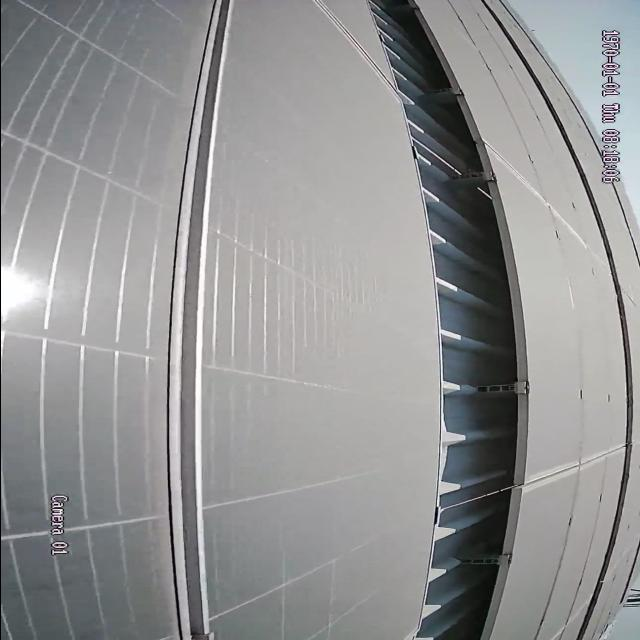interior panel: (165, 0, 235, 638), (485, 144, 588, 247), (527, 448, 614, 490)
outher panel: (359, 0, 524, 639)
